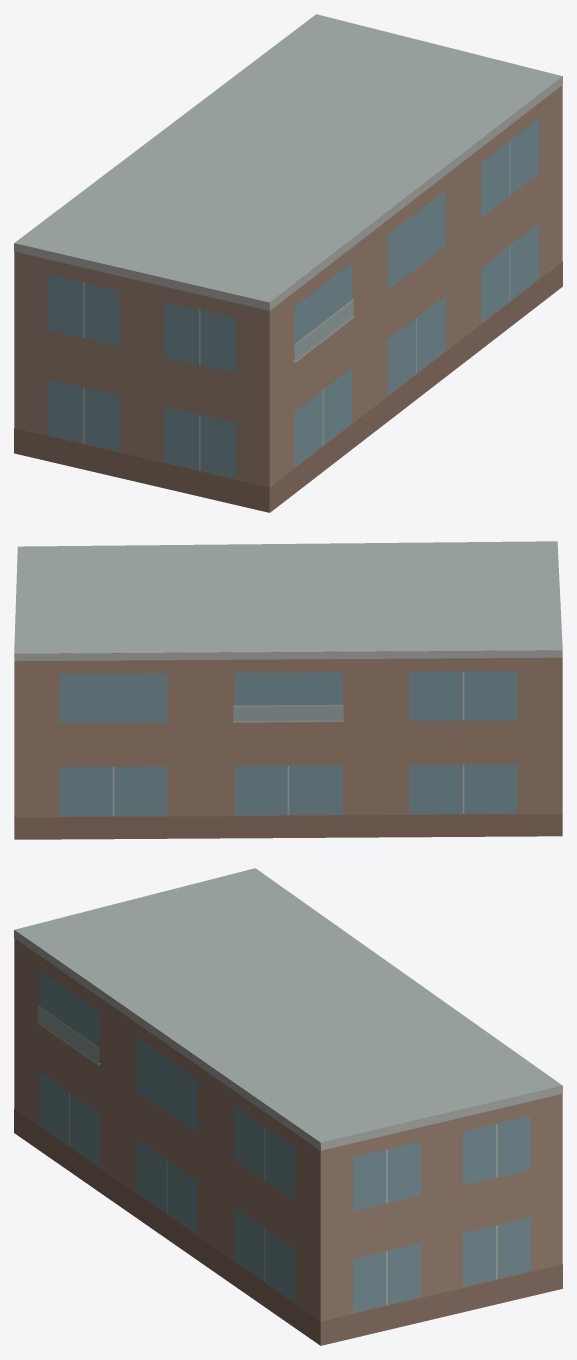
Rendered from survey-upis-32656260.glb.
The picture shows the model from 3 angles, top to bottom: view 1: azimuth 30°, elevation 25°; view 2: azimuth 150°, elevation 25°; view 3: azimuth 270°, elevation 25°; orthographic projection. The views are drawn at different scales.
Visible parts, largest first — view 1: survey-upis-32656260.tmp; view 2: survey-upis-32656260.tmp; view 3: survey-upis-32656260.tmp.
Part boxes in pixels (left/top/right/bottom): survey-upis-32656260.tmp: left=14, top=14, right=562, bottom=512; survey-upis-32656260.tmp: left=14, top=541, right=562, bottom=839; survey-upis-32656260.tmp: left=14, top=868, right=562, bottom=1345.
Size of the model in its own units: 17.7 by 6.1 by 14.94.
